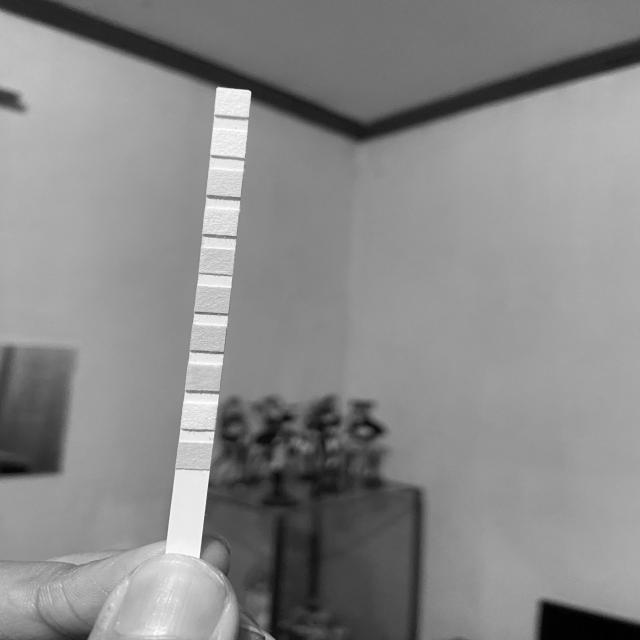Bilirubin: (185, 404, 214, 428)
Blood: (199, 288, 229, 312)
Glucose: (180, 442, 209, 468)
Ketone: (188, 366, 218, 390)
Leukocytes: (217, 90, 248, 115)
Nitrite: (214, 132, 245, 155)
Protein: (204, 210, 236, 234)
SpGravity: (192, 327, 224, 349)
Urobilinogen: (208, 171, 241, 194)
background: (0, 0, 640, 640)
pH: (201, 250, 234, 273)
strip: (165, 87, 252, 558)
